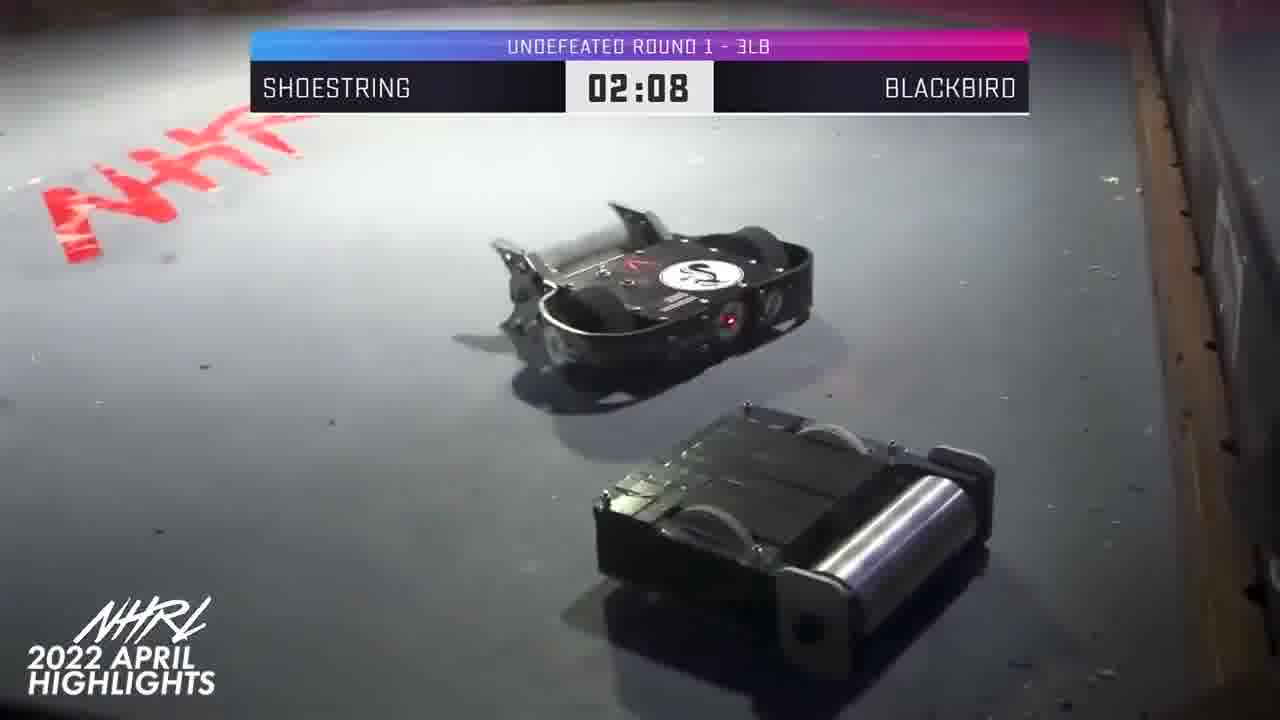combatbot: (589, 398, 999, 692), (491, 202, 817, 388)
